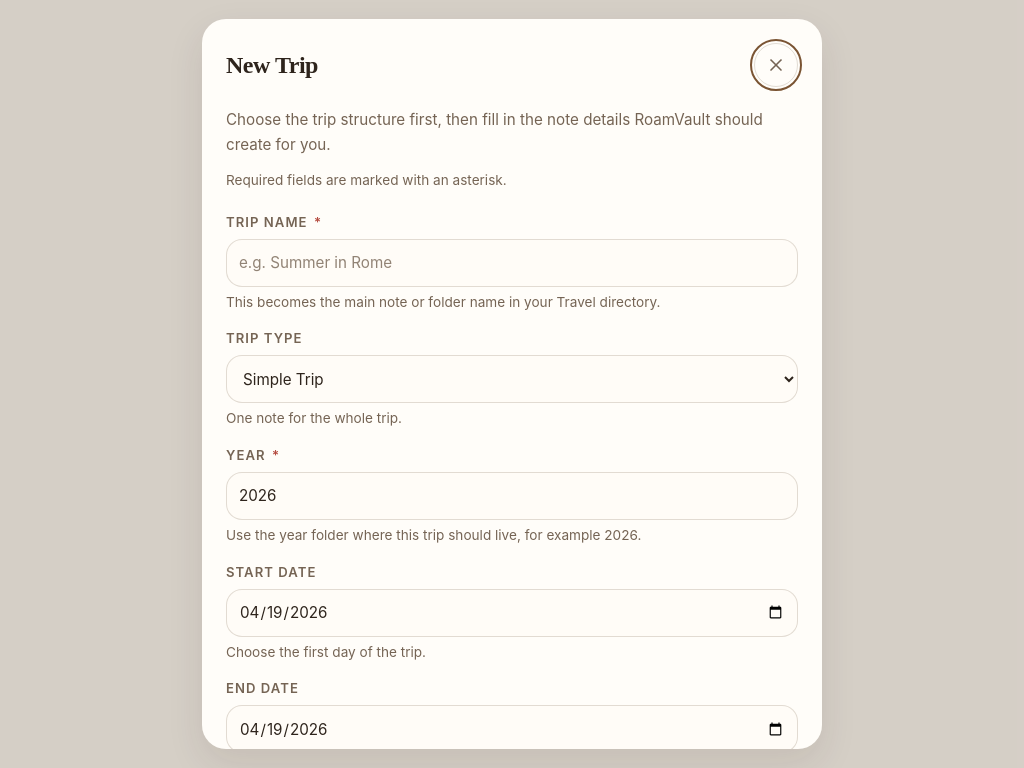
Scenario: createTripForm › shows a validation message for an invalid year
The image size is (1024, 768).
Type "Rome" into the field labelled "Trip Name *" at (512, 263), box [226, 239, 798, 287]
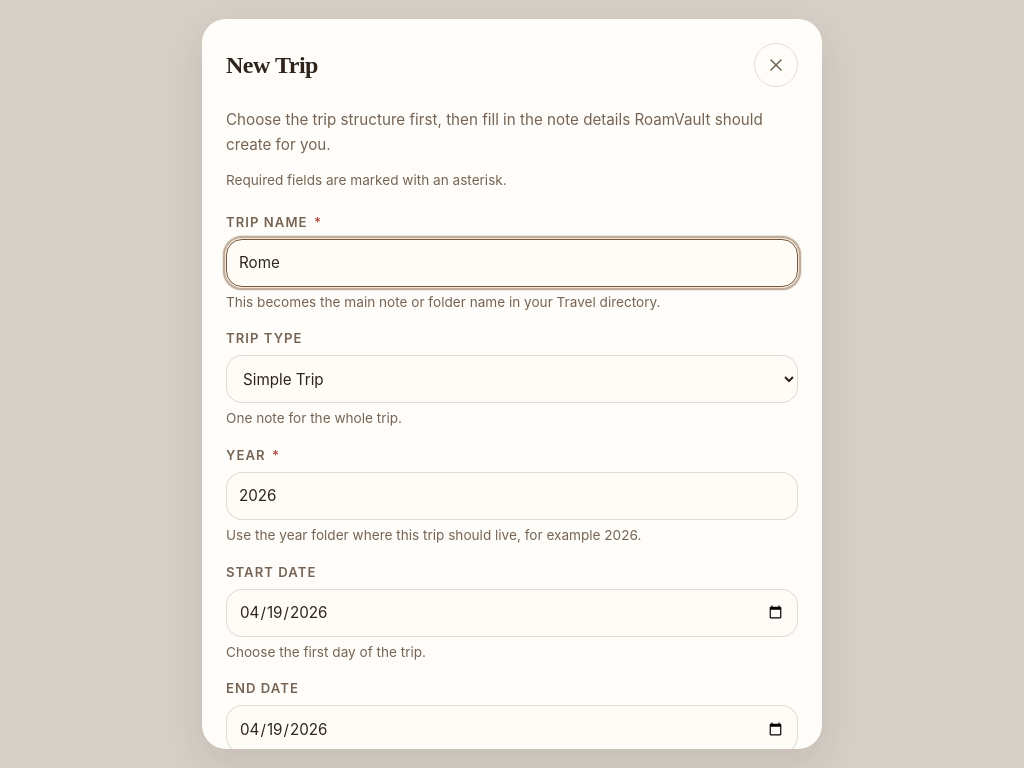
Replace the text in the field labelled "Year *" with "26" at (512, 496), box [226, 472, 798, 520]
(page scrolled)
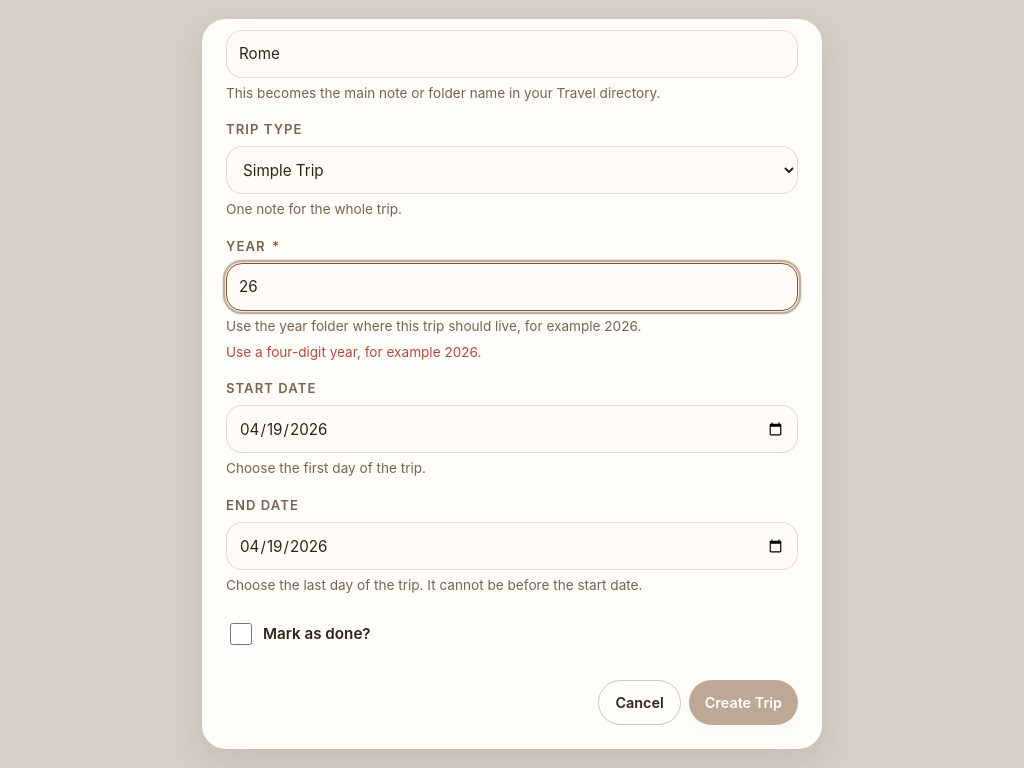
Check: the button "Create Trip" is disabled, box [689, 680, 798, 725]
